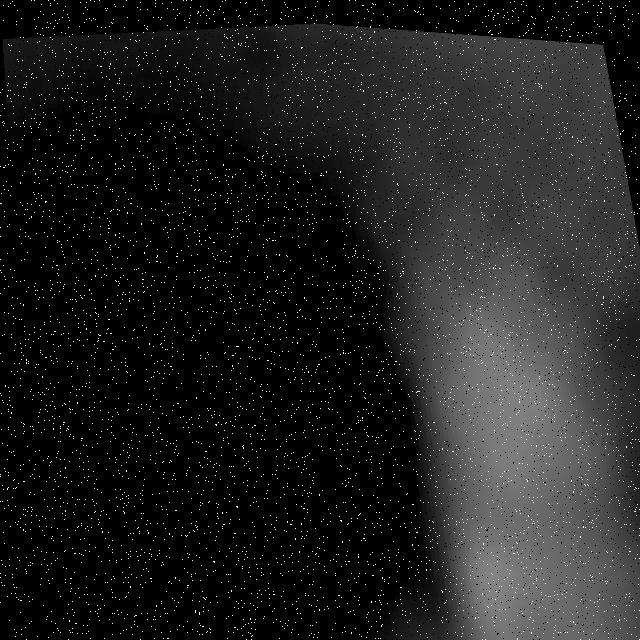person: (377, 170, 640, 640)
